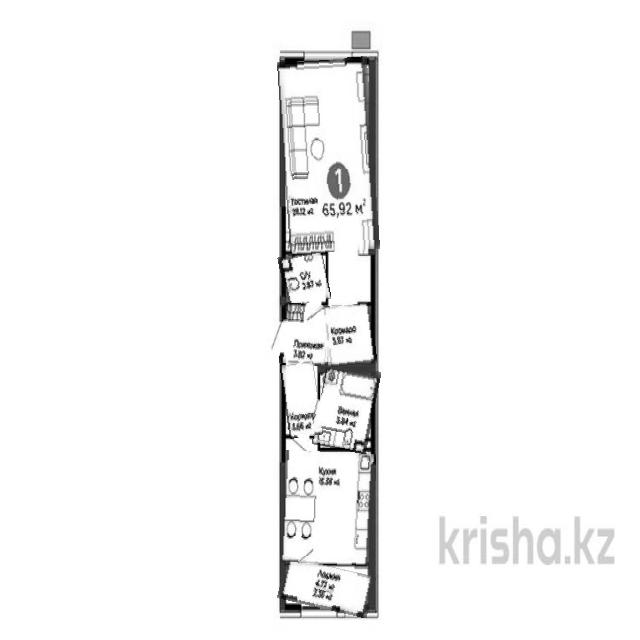balcony: (279, 561, 375, 614)
bathroom: (315, 364, 378, 452), (280, 250, 329, 305)
hallway: (323, 304, 376, 367), (280, 303, 330, 366), (282, 362, 321, 438)
kitchen: (282, 451, 375, 565)
living_room: (280, 58, 377, 253)
